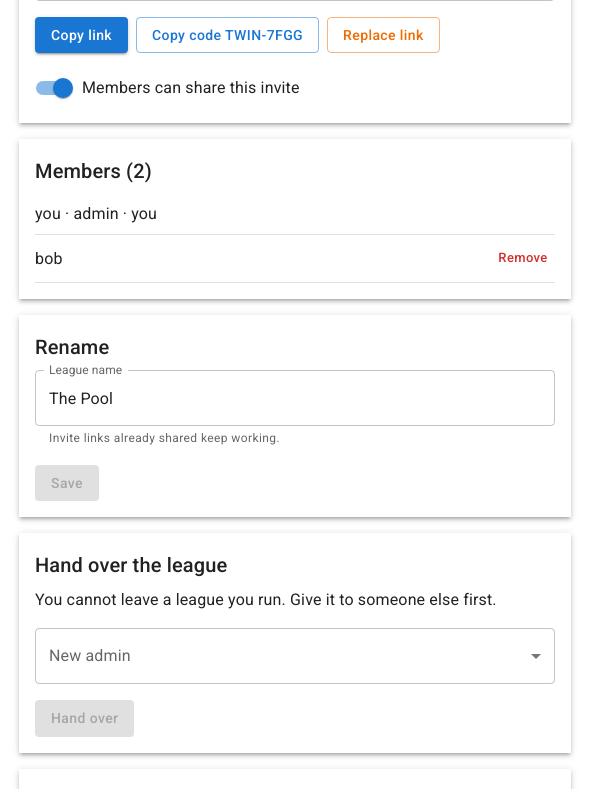
Test case: renaming › waits for a name that is new
The image size is (591, 789).
(page scrolled)
Expected: the button "Save" is disabled, [35,465,99,502]
Clear the field labelled "League name": (295, 398) [35,370,555,426]
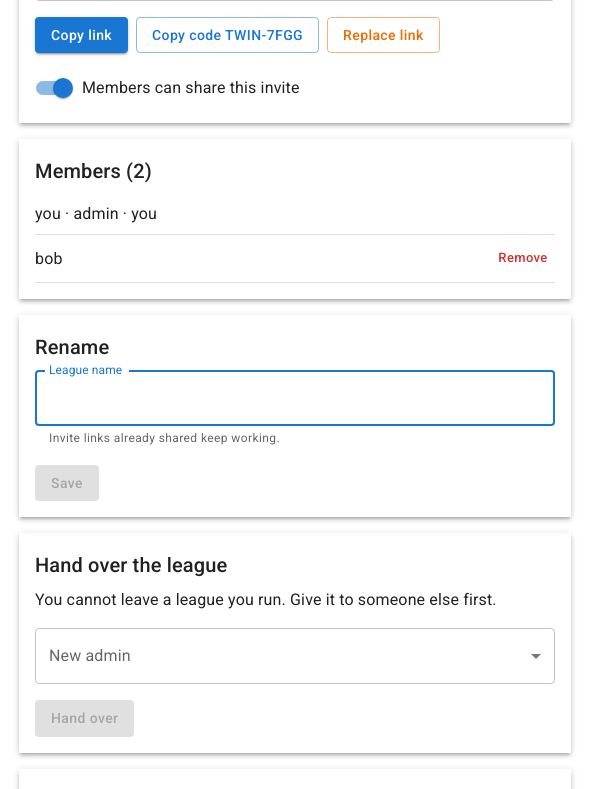
Expected: the button "Save" is disabled, [35,465,99,502]
In the field labelled "League name": (295, 398) [35,370,555,426], type "Thursday Tips"
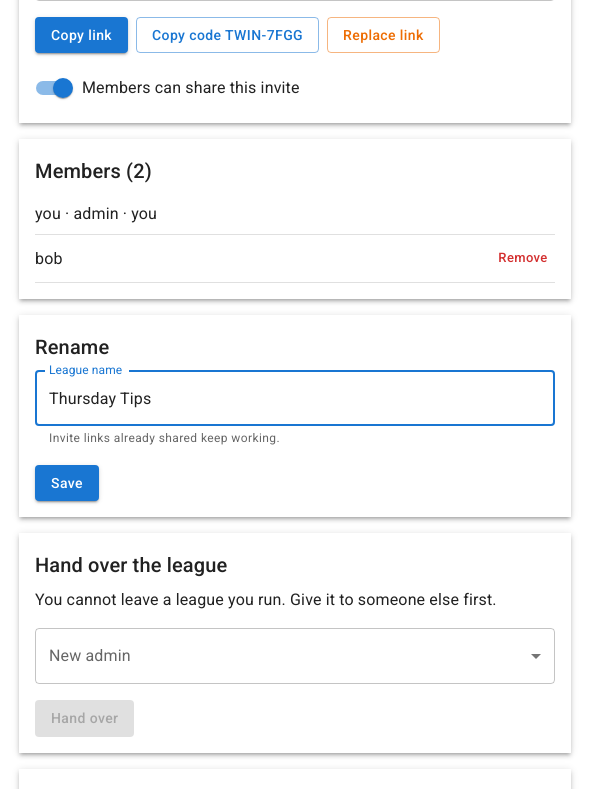
Expected: the button "Save" is enabled, [35,465,99,502]
